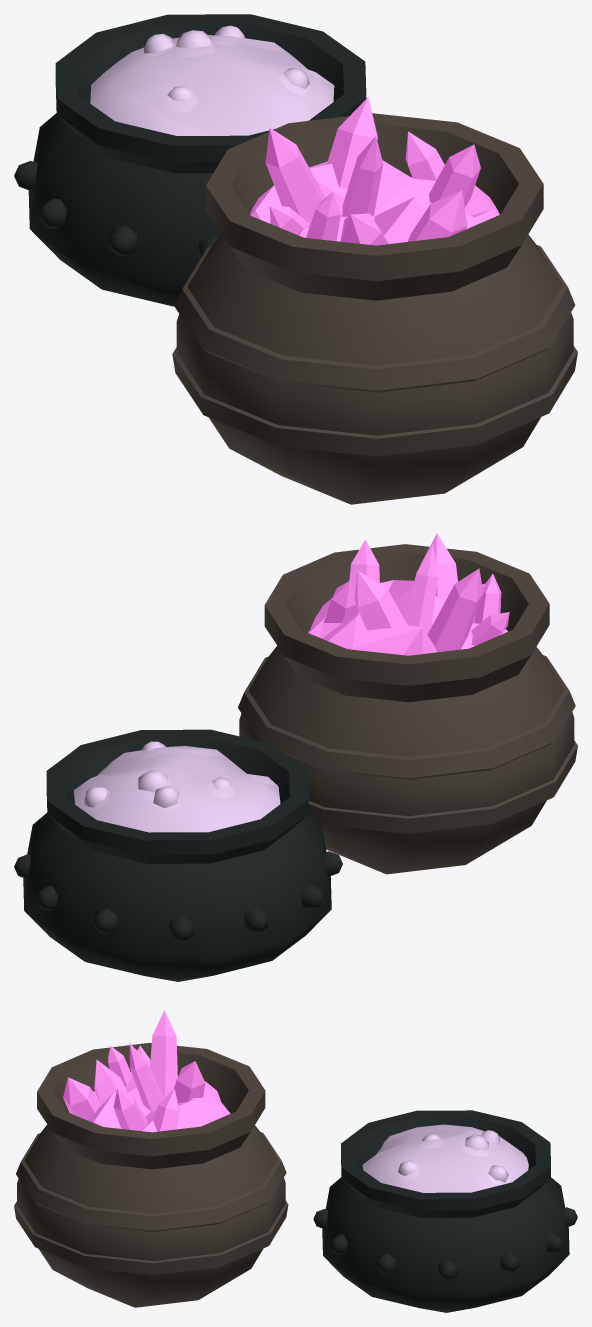
The model's file is Potes.fbx.
The picture shows the model from 3 angles, top to bottom: view 1: azimuth 30°, elevation 25°; view 2: azimuth 150°, elevation 25°; view 3: azimuth 270°, elevation 25°; orthographic projection. The views are drawn at different scales.
Visible parts, largest first — view 1: polySurface263, pSphere31, polySurface249, polySurface254, polySurface264, polySurface265; view 2: polySurface263, pSphere31, polySurface249, polySurface254, polySurface264, polySurface265; view 3: polySurface263, pSphere31, polySurface249, polySurface254, polySurface264, polySurface265.
Boxes of the visible parts, left/top/right/bottom form: polySurface263: left=176, top=113, right=573, bottom=504; pSphere31: left=14, top=14, right=366, bottom=306; polySurface249: left=250, top=97, right=499, bottom=245; polySurface254: left=90, top=35, right=334, bottom=135; polySurface264: left=175, top=244, right=575, bottom=392; polySurface265: left=172, top=346, right=577, bottom=456; polySurface263: left=239, top=544, right=574, bottom=874; pSphere31: left=14, top=729, right=342, bottom=981; polySurface249: left=308, top=533, right=509, bottom=655; polySurface254: left=73, top=745, right=280, bottom=832; polySurface264: left=238, top=655, right=575, bottom=779; polySurface265: left=308, top=740, right=577, bottom=833; polySurface263: left=17, top=1043, right=285, bottom=1307; pSphere31: left=313, top=1110, right=577, bottom=1312; polySurface249: left=63, top=1010, right=230, bottom=1132; polySurface254: left=362, top=1124, right=528, bottom=1192; polySurface264: left=16, top=1132, right=286, bottom=1231; polySurface265: left=14, top=1201, right=288, bottom=1275.
Bounding box in the file's own units: 18.46 × 15.62 × 33.39.
